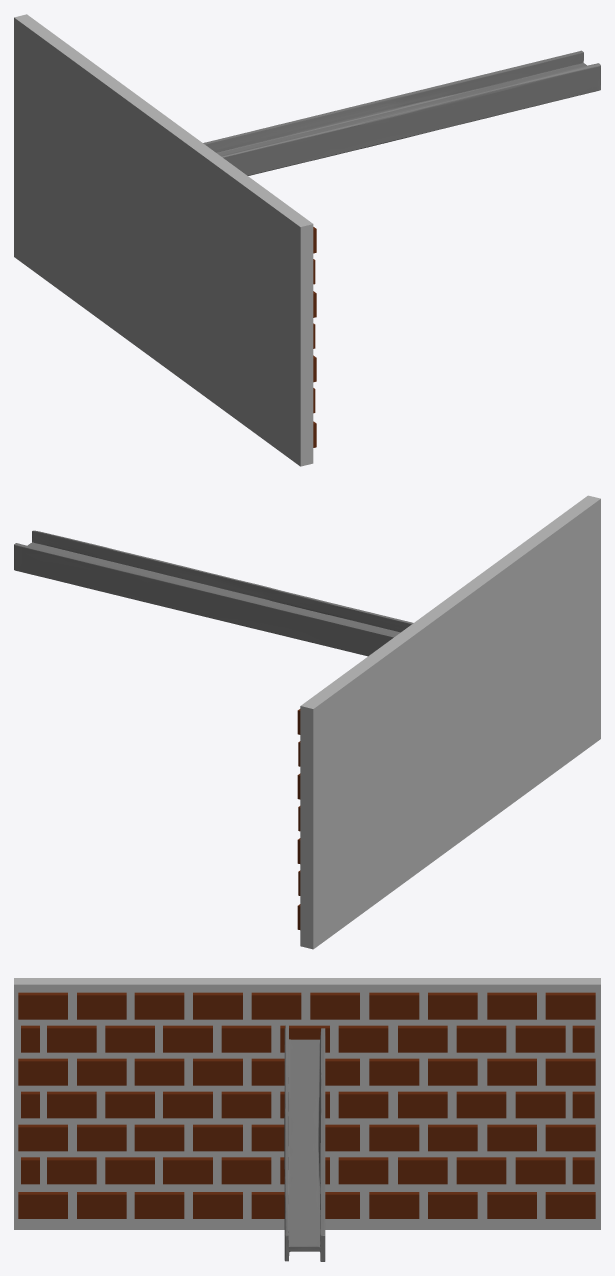
File: Modelos (Perlin H, Muro).fbx
3 renders of one model, top to bottom at view 1: azimuth 30°, elevation 25°; view 2: azimuth 150°, elevation 25°; view 3: azimuth 270°, elevation 25°, orthographic. The views are drawn at different scales.
Parts seen in each view (by area): view 1: Muro Completo.005, geometry_0.001; view 2: Muro Completo.005, geometry_0.001; view 3: Muro Completo.005, geometry_0.001.
Part boxes in pixels (box(x1,y1,x2,y2)): Muro Completo.005: box(14, 14, 316, 466); geometry_0.001: box(203, 50, 600, 175); Muro Completo.005: box(297, 495, 600, 949); geometry_0.001: box(14, 530, 413, 656); Muro Completo.005: box(14, 978, 600, 1229); geometry_0.001: box(284, 1025, 325, 1261).
Bounding box in the file's own units: 1117 × 590 × 1279.
